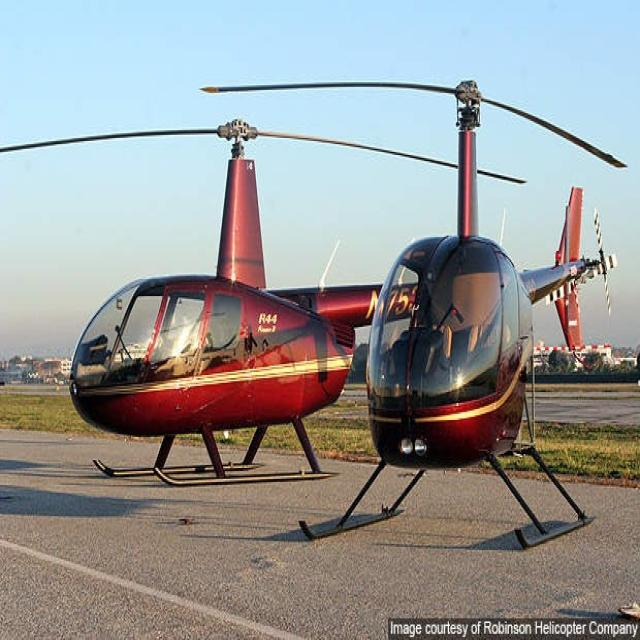CIV_HELO: (68, 116, 621, 487)
